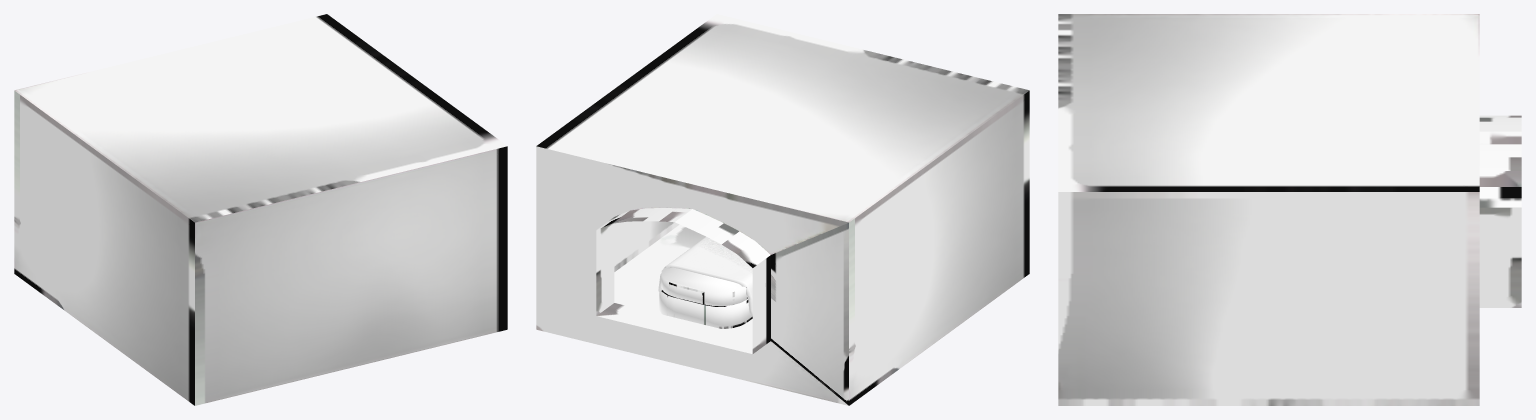
Rendered from room.glb.
3 views of the same model, side by side, from view 1: azimuth 30°, elevation 25°; view 2: azimuth 150°, elevation 25°; view 3: azimuth 270°, elevation 25° (orthographic). The views are drawn at different scales.
Visible parts, largest first — view 1: SWall, Ceiling, WWall; view 2: Ceiling, NWall, WWall, Floor, Blanket, Mattress, Bedframe, EWall; view 3: EWall, Ceiling, NWall.
Boxes of the visible parts, x1,y1,x2,y2 form: SWall: (195, 146, 507, 405); Ceiling: (14, 14, 507, 222); WWall: (14, 90, 194, 405); Ceiling: (536, 14, 1029, 222); NWall: (536, 146, 848, 405); WWall: (849, 90, 1029, 405); Floor: (614, 224, 752, 336); Blanket: (658, 236, 752, 314); Mattress: (661, 267, 747, 306); Bedframe: (659, 283, 752, 328); EWall: (614, 221, 679, 271); EWall: (1058, 192, 1479, 405); Ceiling: (1058, 14, 1479, 191); NWall: (1479, 115, 1521, 307).
Size of the model in its own units: 2 by 1.13 by 2.2.
Materials: 1 (1 with a texture image).
